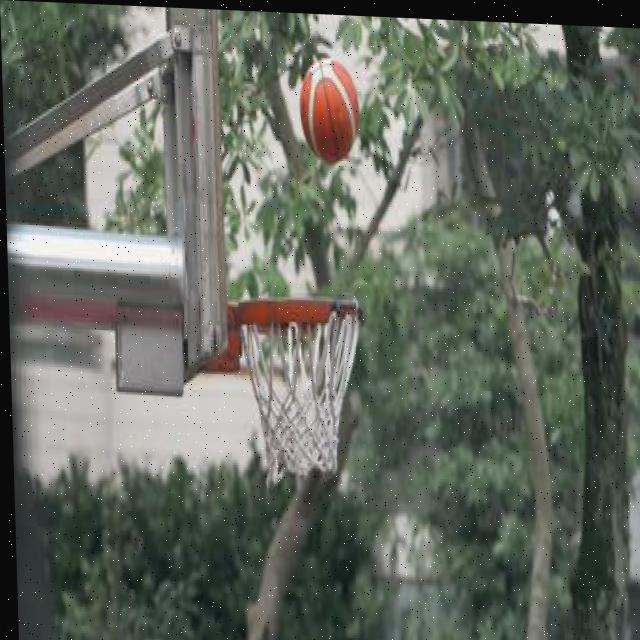basketball: (298, 57, 361, 166)
hoop: (238, 292, 366, 493)
